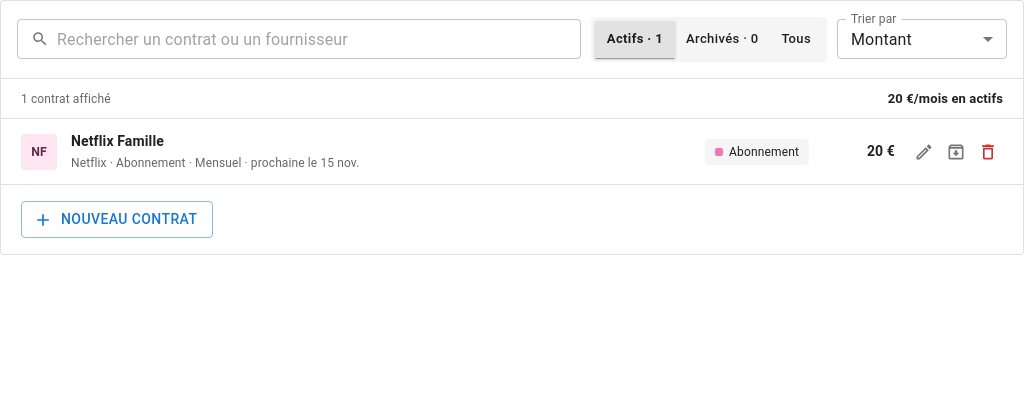
Test: ContractSettings – actions › referme la confirmation sur Annuler sans rien supprimer
Click the button named "Supprimer Netflix Famille" at (988,152), box top-left (973, 137), bottom-right (1003, 167)
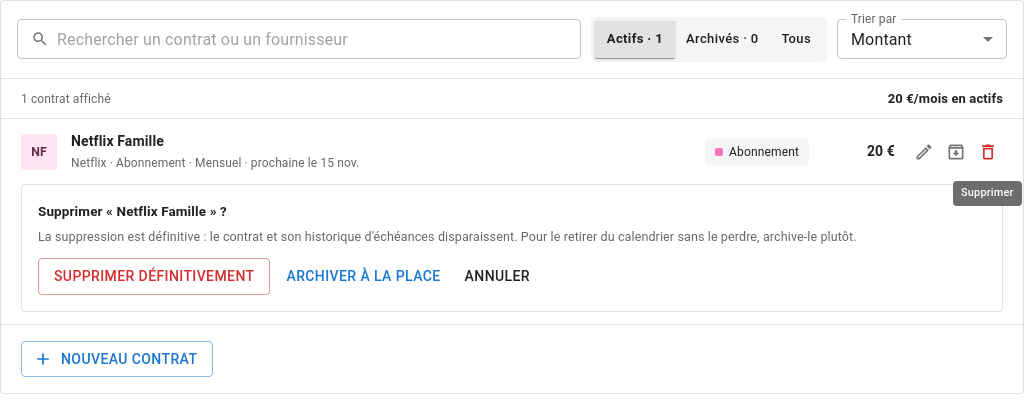
Click the button "Annuler" at (497,277), box top-left (457, 258), bottom-right (538, 295)
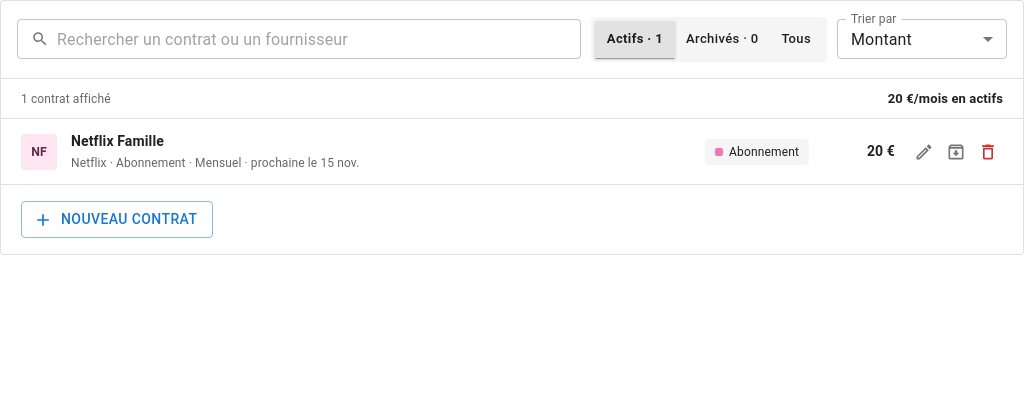
Check: the text "La suppression est définitive" is gone
